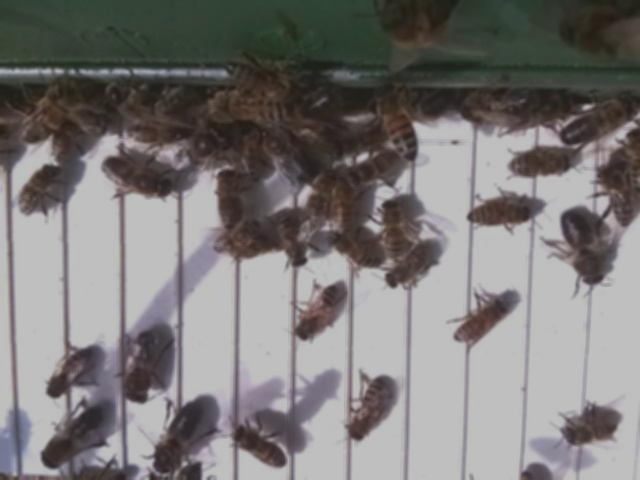Drone: (556, 97, 639, 149), (40, 406, 103, 472), (150, 400, 204, 477), (558, 208, 606, 289), (98, 154, 174, 204), (122, 328, 159, 407)
Worker: (373, 87, 421, 165), (451, 292, 510, 347), (226, 421, 288, 471), (346, 375, 388, 447), (43, 345, 93, 401), (292, 284, 338, 344), (14, 160, 58, 221), (464, 196, 534, 233), (596, 162, 635, 228), (383, 244, 432, 294), (323, 231, 380, 273), (274, 207, 308, 275), (504, 152, 571, 184), (212, 169, 245, 231), (380, 199, 410, 261)
